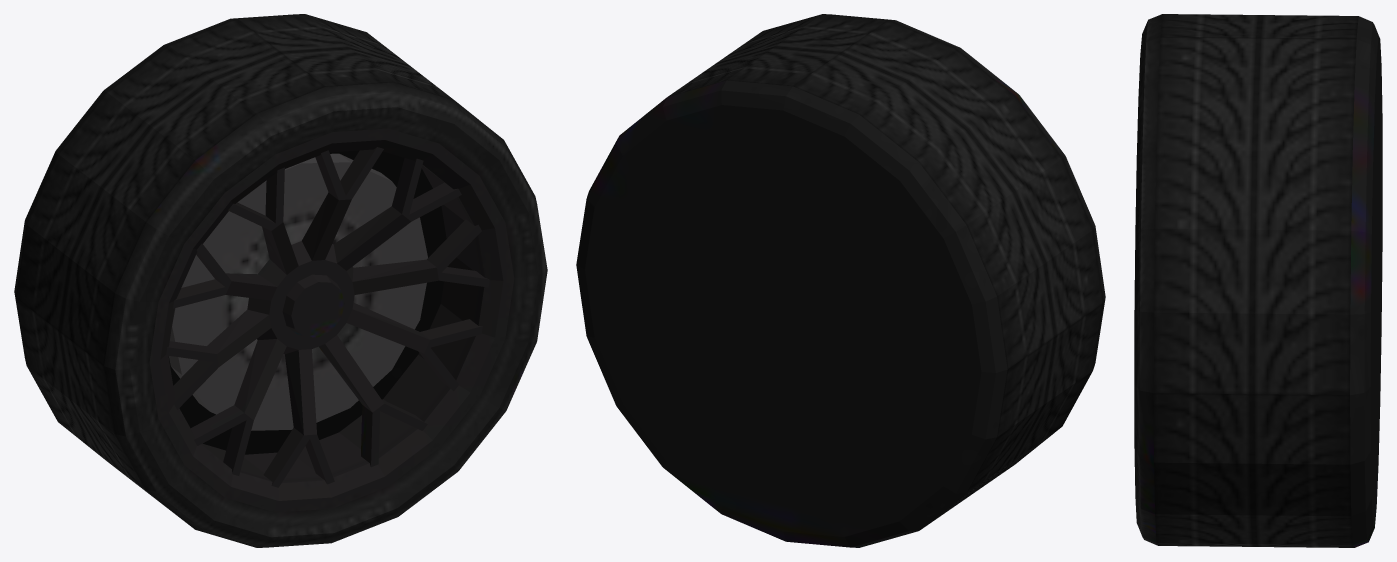
File: lamborghini_aventador_wheel_rr_lev3.glb
The picture shows the model from 3 angles, left to right: view 1: azimuth 30°, elevation 25°; view 2: azimuth 150°, elevation 25°; view 3: azimuth 270°, elevation 25°; orthographic projection. The views are drawn at different scales.
Parts seen in each view (by area): view 1: lamborghini_aventador_wheel_rr_lev3; view 2: lamborghini_aventador_wheel_rr_lev3; view 3: lamborghini_aventador_wheel_rr_lev3.
Part boxes in pixels (left/top/right/bottom): lamborghini_aventador_wheel_rr_lev3: left=14, top=14, right=547, bottom=547; lamborghini_aventador_wheel_rr_lev3: left=576, top=14, right=1105, bottom=547; lamborghini_aventador_wheel_rr_lev3: left=1134, top=14, right=1382, bottom=547.
Size of the model in its own units: 0.761 by 0.7545 by 0.3499.
1 material, 1 textured.
